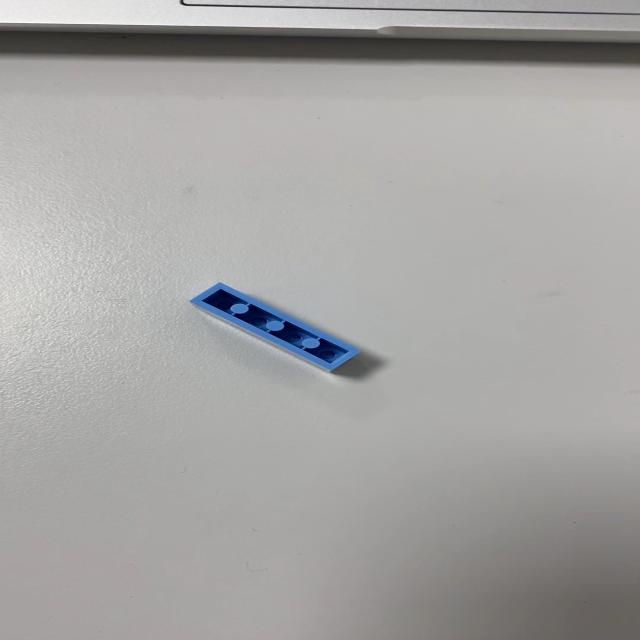C4x1x1: (187, 281, 360, 373)
